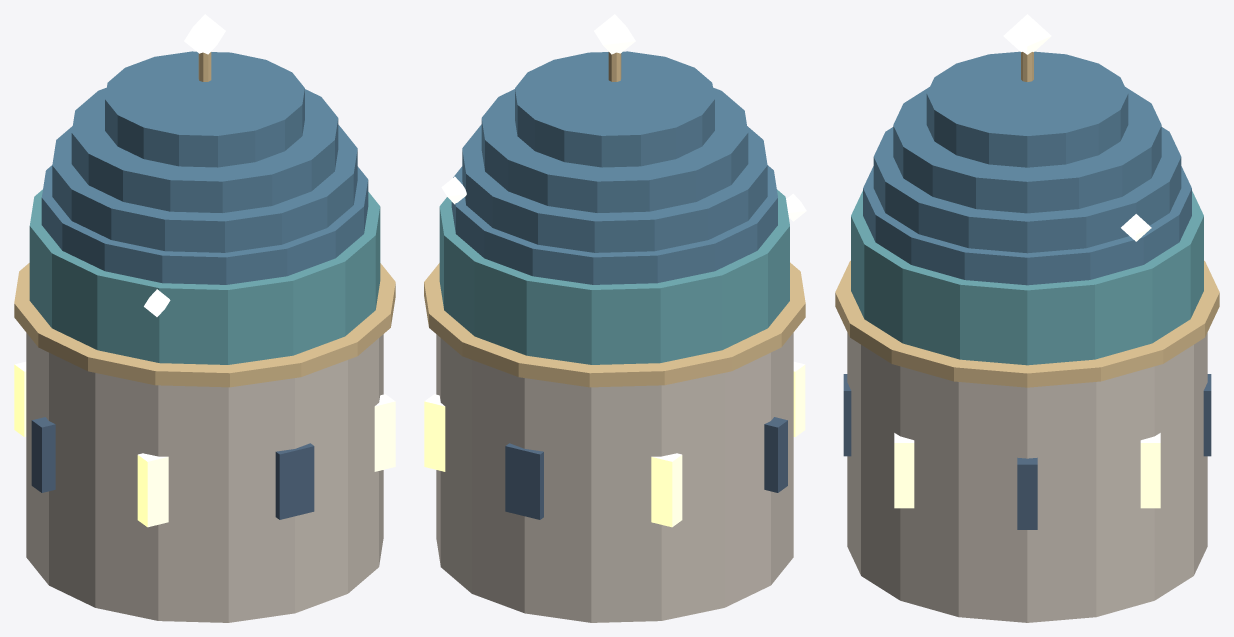
File: mini-observatorio-v9.glb
The picture shows the model from 3 angles, left to right: view 1: azimuth 30°, elevation 25°; view 2: azimuth 150°, elevation 25°; view 3: azimuth 270°, elevation 25°; orthographic projection.
Bounding box in the file's own units: 4.46 × 6.76 × 4.42.
